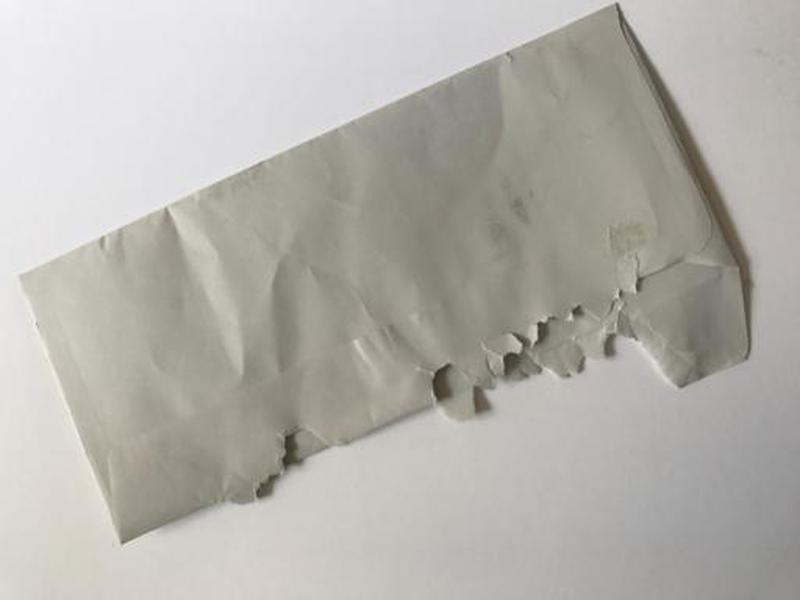paper: (11, 1, 759, 551)
